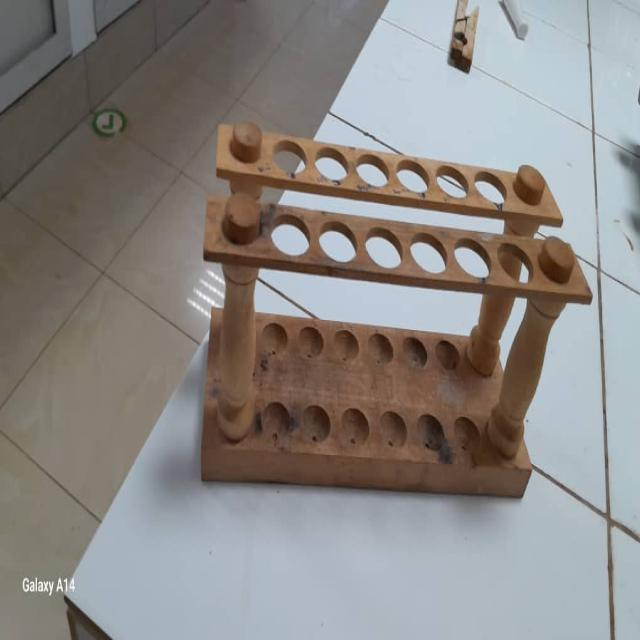Test Tube Racks: (192, 117, 592, 503)
